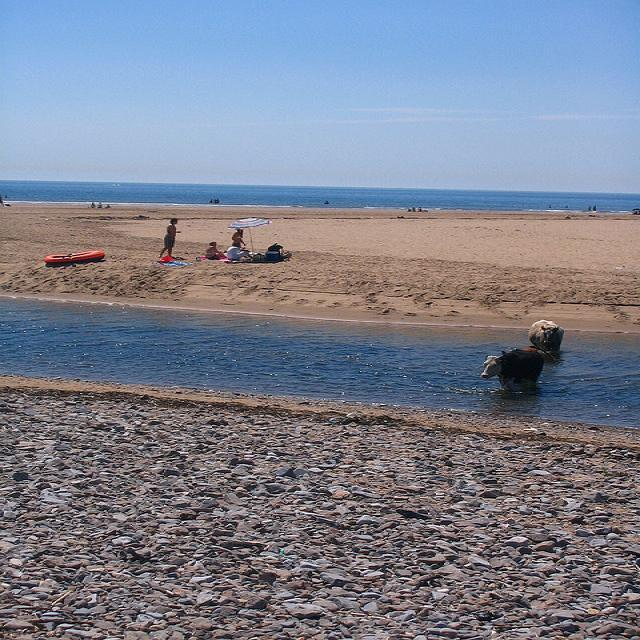cow: (479, 344, 547, 392), (527, 318, 563, 349)
